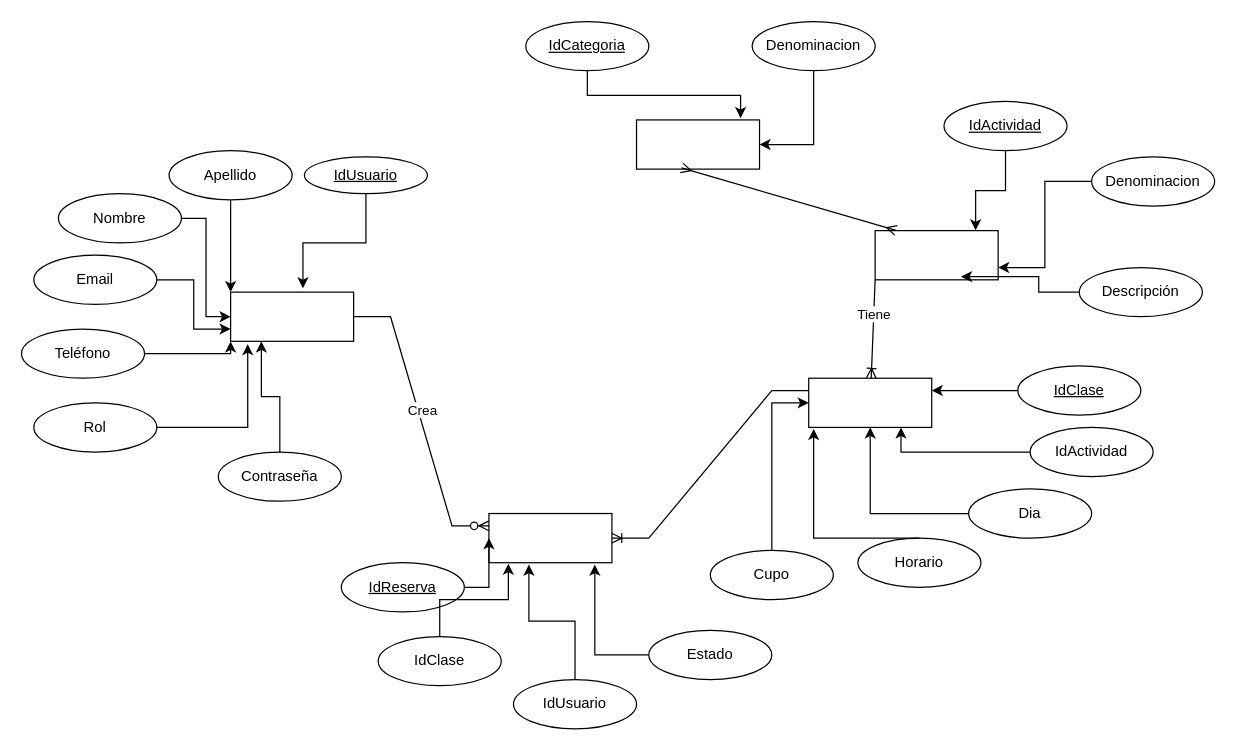
Some shapes in this 1236 by 750 pixel diagram are drawn without their labels. Each missing label, with the box of its shape:
Actividad: (874, 229, 998, 280)
Categoria: (635, 119, 760, 169)
Clase: (807, 377, 932, 427)
Reserva: (488, 512, 612, 563)
Usuario: (229, 291, 354, 341)
